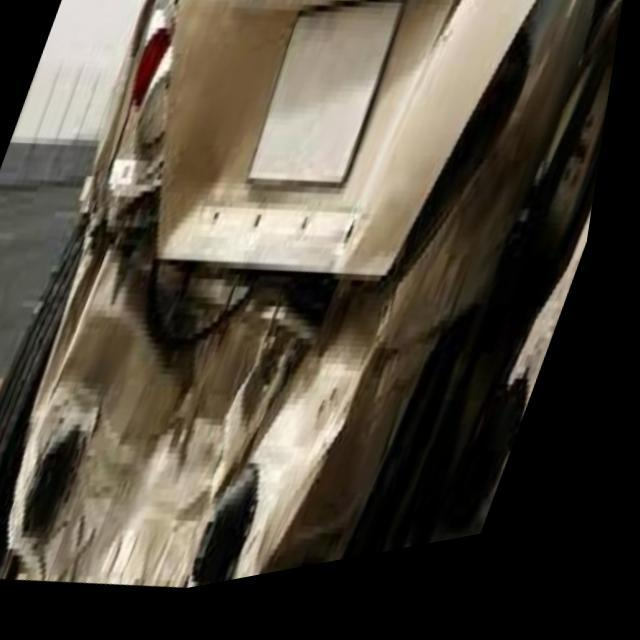no part: (22, 0, 629, 598)
